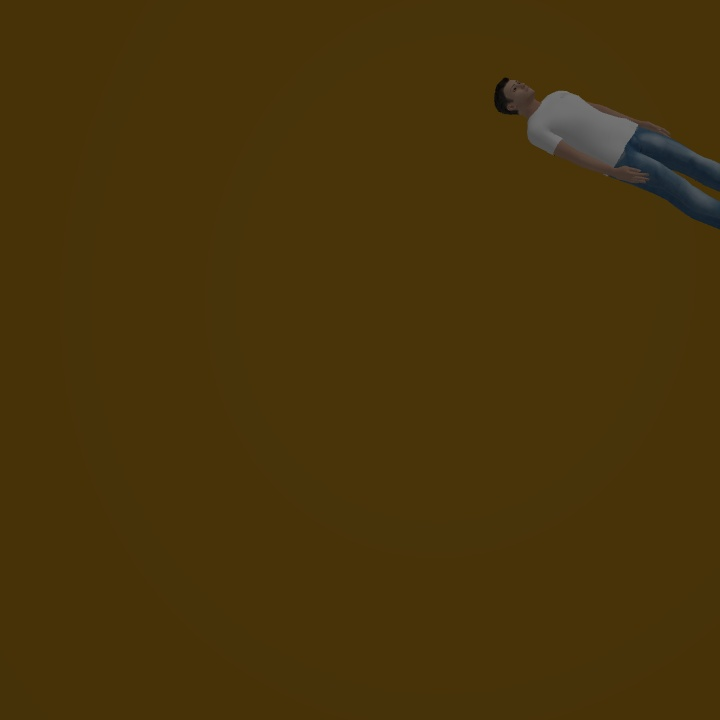victim: (493, 78, 720, 232)
